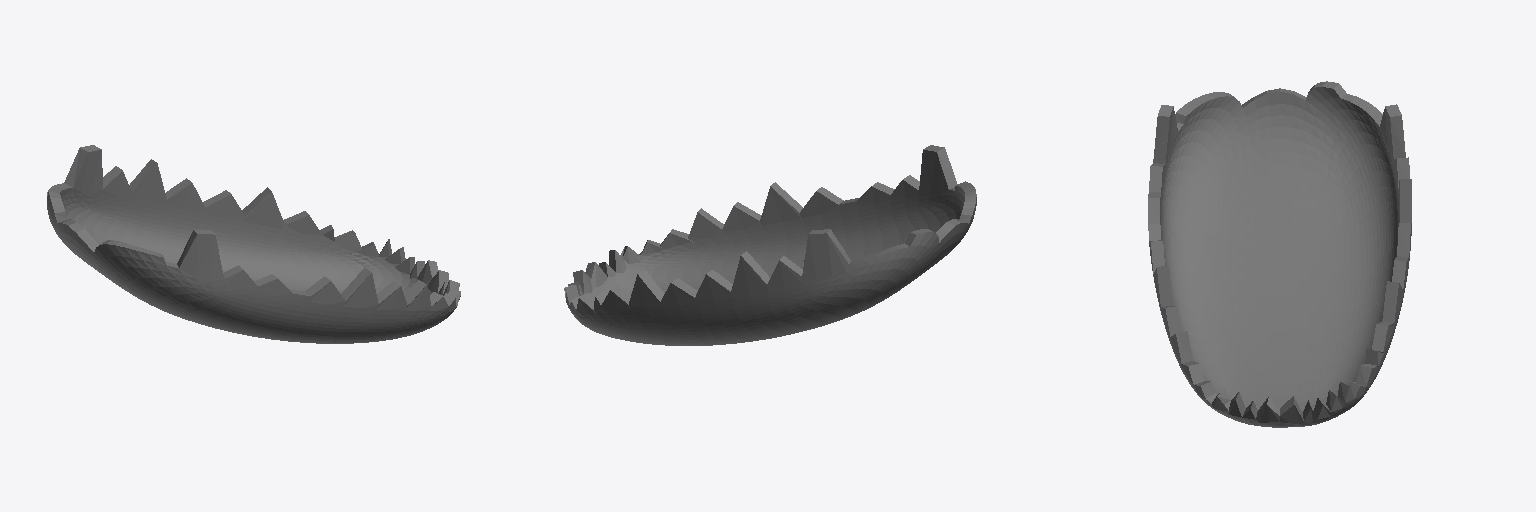
The model's file is Mandibula.obj.
3 renders of one model, left to right at view 1: azimuth 30°, elevation 25°; view 2: azimuth 150°, elevation 25°; view 3: azimuth 270°, elevation 25°, orthographic.
Parts seen in each view (by area): view 1: Mandibula; view 2: Mandibula; view 3: Mandibula.
Part boxes in pixels (x1,y1,x2,y2): Mandibula: (47,145,460,343); Mandibula: (564,145,976,345); Mandibula: (1148,81,1411,427).
Size of the model in its own units: 2.65 by 1.27 by 1.61.